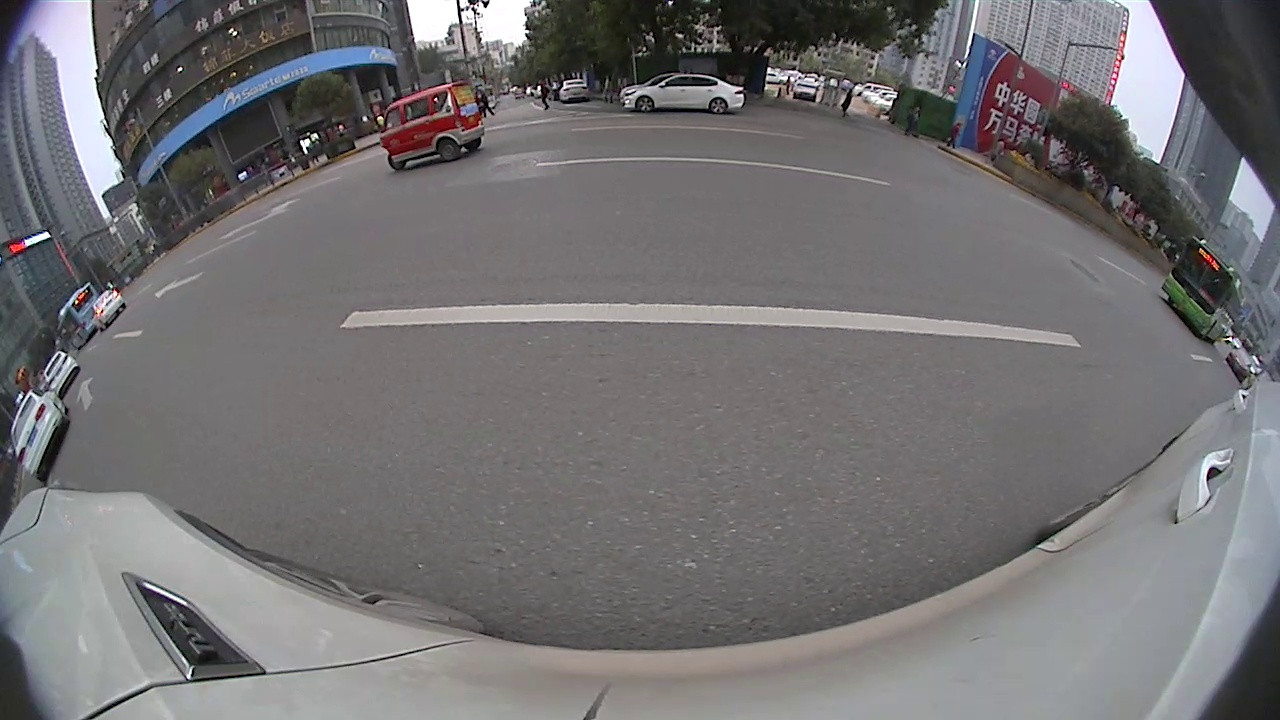bus: (1158, 235, 1238, 336), (59, 281, 99, 351)
car: (10, 386, 71, 484), (621, 71, 744, 115), (40, 350, 78, 389), (90, 289, 127, 324), (1226, 347, 1253, 381)
front: (635, 95, 656, 113), (385, 154, 407, 171)
rear: (436, 140, 459, 162), (708, 95, 727, 116)
rider: (378, 80, 485, 169)
